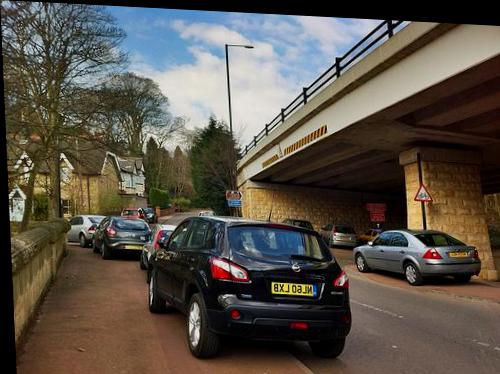License_Plate: (269, 278, 318, 297)
